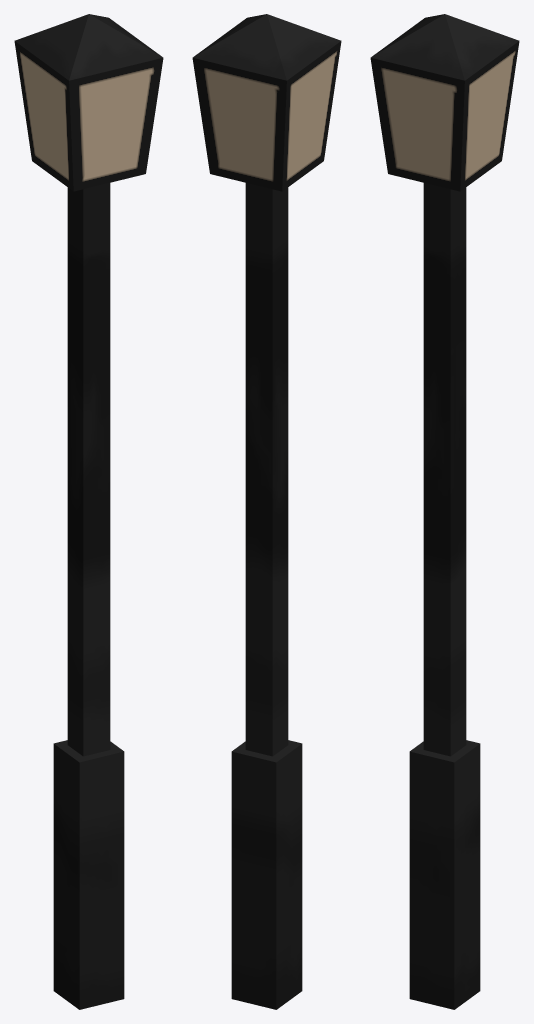
The model's file is lamp.fbx.
The picture shows the model from 3 angles, left to right: view 1: azimuth 30°, elevation 25°; view 2: azimuth 150°, elevation 25°; view 3: azimuth 330°, elevation 25°; orthographic projection.
Visible parts, largest first — view 1: Cube.003; view 2: Cube.003; view 3: Cube.003.
Part boxes in pixels (x1=…): Cube.003: x1=14, y1=14, x2=163, y2=1009; Cube.003: x1=192, y1=14, x2=341, y2=1009; Cube.003: x1=370, y1=14, x2=519, y2=1009.
Size of the model in its own units: 35.96 by 357 by 35.96.
Materials: 2 (2 with a texture image).
